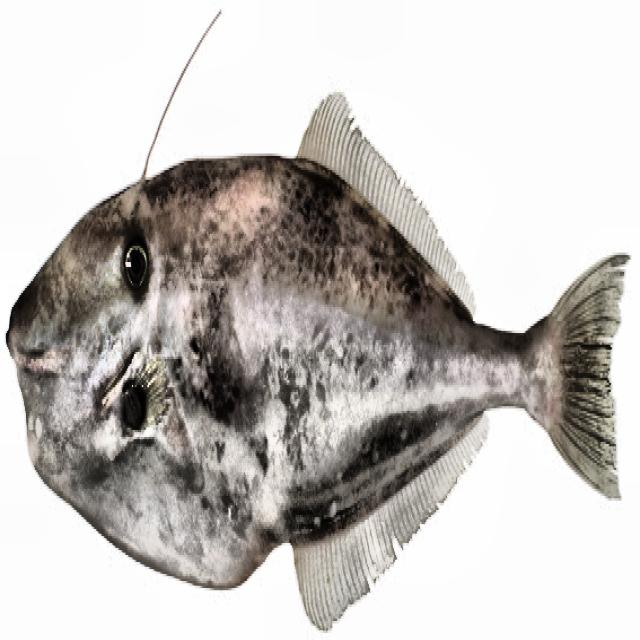fish: (2, 9, 621, 636)
